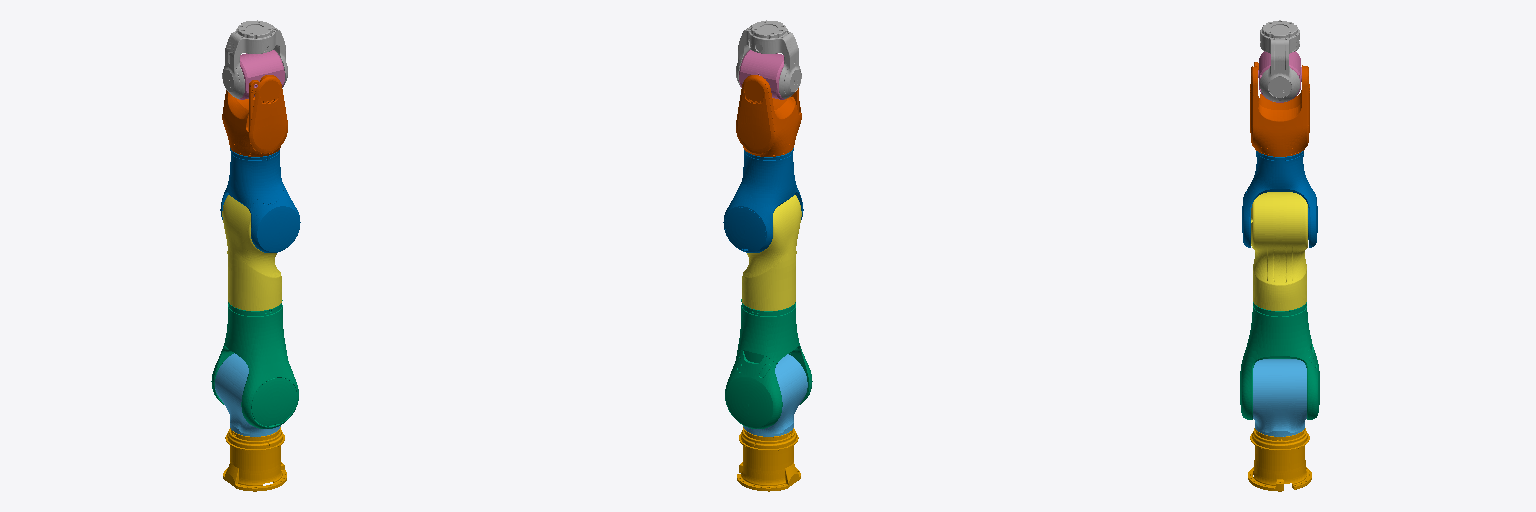
URDF robot description (ar5_08_right):
<?xml version="1.0"?>
<!-- Written by tools/assemble.py from ar5_08_right.xml: the same robot. Edit the MJCF, not this file. -->
<robot name="ar5_08_right">
  <link name="AR5_5_08R_W4C4A6_base">
    <inertial><origin xyz="-3.32756117e-05 -5.336332348e-05 0.05327725576" rpy="-0.005736384127 0.006757944656 0.2720821904"/><mass value="1.985108467"/><inertia ixx="0.002841170574" ixy="0" ixz="0" iyy="0.002806933388" iyz="0" izz="0.00230931321"/></inertial>
    <visual><origin xyz="0 0 0" rpy="0 0 0"/><geometry><mesh filename="meshes/visual/AR5_5_08R_W4C4A6_base_vis.obj"/></geometry></visual>
    <collision><origin xyz="0 0 0" rpy="0 0 0"/><geometry><mesh filename="meshes/collision/AR5_5_08R_W4C4A6_base_col.obj"/></geometry></collision>
  </link>
  <link name="AR5_5_08R_W4C4A6_link1">
    <inertial><origin xyz="0.000186 -0.001543 0.172784" rpy="1.544112367 -0.003346854636 0.000481908357"/><mass value="2.166"/><inertia ixx="0.003293741746" ixy="0" ixz="0" iyy="0.003148567652" iyz="0" izz="0.002587670602"/></inertial>
    <visual><origin xyz="0 0 0" rpy="0 0 0"/><geometry><mesh filename="meshes/visual/AR5_5_08R_W4C4A6_link1_vis.obj"/></geometry></visual>
    <collision><origin xyz="0 0 0" rpy="0 0 0"/><geometry><mesh filename="meshes/collision/AR5_5_08R_W4C4A6_link1_col.obj"/></geometry></collision>
  </link>
  <joint name="AR5_5_08R_W4C4A6_joint_1" type="revolute"><parent link="AR5_5_08R_W4C4A6_base"/><child link="AR5_5_08R_W4C4A6_link1"/><origin xyz="0 0 0" rpy="0 0 0"/><axis xyz="0 0 1"/><limit lower="-3.1067" upper="3.1067" effort="120" velocity="0.39"/><dynamics damping="0" friction="0"/></joint>
  <link name="AR5_5_08R_W4C4A6_link2">
    <inertial><origin xyz="1.7e-05 -0.001795 0.106691" rpy="0.1304021144 -0.0007589523819 0.002718522369"/><mass value="1.903"/><inertia ixx="0.007798278457" ixy="0" ixz="0" iyy="0.006813057405" iyz="0" izz="0.002990544138"/></inertial>
    <visual><origin xyz="0 0 0" rpy="0 0 0"/><geometry><mesh filename="meshes/visual/AR5_5_08R_W4C4A6_link2_vis.obj"/></geometry></visual>
    <collision><origin xyz="0 0 0" rpy="0 0 0"/><geometry><mesh filename="meshes/collision/AR5_5_08R_W4C4A6_link2_col.obj"/></geometry></collision>
  </link>
  <joint name="AR5_5_08R_W4C4A6_joint_2" type="revolute"><parent link="AR5_5_08R_W4C4A6_link1"/><child link="AR5_5_08R_W4C4A6_link2"/><origin xyz="0 0 0.1745" rpy="0 0 0"/><axis xyz="0 1 0"/><limit lower="-2.0944" upper="2.0944" effort="120" velocity="0.32"/><dynamics damping="0" friction="0"/></joint>
  <link name="AR5_5_08R_W4C4A6_link3">
    <inertial><origin xyz="0.009022 0.0009 -0.019936" rpy="0.01156499331 -0.08137184008 0.0350608603"/><mass value="1.845"/><inertia ixx="0.006380916591" ixy="0" ixz="0" iyy="0.005816054267" iyz="0" izz="0.002666189142"/></inertial>
    <visual><origin xyz="0 0 0" rpy="0 0 0"/><geometry><mesh filename="meshes/visual/AR5_5_08R_W4C4A6_link3_vis.obj"/></geometry></visual>
    <collision><origin xyz="0 0 0" rpy="0 0 0"/><geometry><mesh filename="meshes/collision/AR5_5_08R_W4C4A6_link3_col.obj"/></geometry></collision>
  </link>
  <joint name="AR5_5_08R_W4C4A6_joint_3" type="revolute"><parent link="AR5_5_08R_W4C4A6_link2"/><child link="AR5_5_08R_W4C4A6_link3"/><origin xyz="0 0 0.332" rpy="0 0 0"/><axis xyz="0 0 1"/><limit lower="-3.1067" upper="3.1067" effort="120" velocity="0.39"/><dynamics damping="0" friction="0"/></joint>
  <link name="AR5_5_08R_W4C4A6_link4">
    <inertial><origin xyz="-0.009272 0.002169 0.084042" rpy="-0.1907277085 0.08817328405 0.08601852898"/><mass value="1.037"/><inertia ixx="0.002958753971" ixy="0" ixz="0" iyy="0.002484537055" iyz="0" izz="0.001356698974"/></inertial>
    <visual><origin xyz="0 0 0" rpy="0 0 0"/><geometry><mesh filename="meshes/visual/AR5_5_08R_W4C4A6_link4_vis.obj"/></geometry></visual>
    <collision><origin xyz="0 0 0" rpy="0 0 0"/><geometry><mesh filename="meshes/collision/AR5_5_08R_W4C4A6_link4_col.obj"/></geometry></collision>
  </link>
  <joint name="AR5_5_08R_W4C4A6_joint_4" type="revolute"><parent link="AR5_5_08R_W4C4A6_link3"/><child link="AR5_5_08R_W4C4A6_link4"/><origin xyz="0.0105 0 0" rpy="0 0 0"/><axis xyz="0 1 0"/><limit lower="-1.0472" upper="2.5307" effort="120" velocity="0.39"/><dynamics damping="0" friction="0"/></joint>
  <link name="AR5_5_08R_W4C4A6_link5">
    <inertial><origin xyz="-0.000776 -0.000804 -0.086734" rpy="-0.139879665 0.0597717312 0.1088778322"/><mass value="1.279"/><inertia ixx="0.002416642662" ixy="0" ixz="0" iyy="0.002005444649" iyz="0" izz="0.001571232689"/></inertial>
    <visual><origin xyz="0 0 0" rpy="0 0 0"/><geometry><mesh filename="meshes/visual/AR5_5_08R_W4C4A6_link5_vis.obj"/></geometry></visual>
    <collision><origin xyz="0 0 0" rpy="0 0 0"/><geometry><mesh filename="meshes/collision/AR5_5_08R_W4C4A6_link5_col.obj"/></geometry></collision>
  </link>
  <joint name="AR5_5_08R_W4C4A6_joint_5" type="revolute"><parent link="AR5_5_08R_W4C4A6_link4"/><child link="AR5_5_08R_W4C4A6_link5"/><origin xyz="-0.0105 0 0.278" rpy="0 0 0"/><axis xyz="0 0 1"/><limit lower="-3.1067" upper="3.1067" effort="100" velocity="0.49"/><dynamics damping="0" friction="0"/></joint>
  <link name="AR5_5_08R_W4C4A6_link6">
    <inertial><origin xyz="-0.005059 -0.00025 -5.5e-05" rpy="-1.41665183 -1.527567163 -1.731612257"/><mass value="0.906"/><inertia ixx="0.0007605867866" ixy="0" ixz="0" iyy="0.000749415918" iyz="0" izz="0.0006148572954"/></inertial>
    <visual><origin xyz="0 0 0" rpy="0 0 0"/><geometry><mesh filename="meshes/visual/AR5_5_08R_W4C4A6_link6_vis.obj"/></geometry></visual>
    <collision><origin xyz="0 0 0" rpy="0 0 0"/><geometry><mesh filename="meshes/collision/AR5_5_08R_W4C4A6_link6_col.obj"/></geometry></collision>
  </link>
  <joint name="AR5_5_08R_W4C4A6_joint_6" type="revolute"><parent link="AR5_5_08R_W4C4A6_link5"/><child link="AR5_5_08R_W4C4A6_link6"/><origin xyz="0 0 0" rpy="0 0 0"/><axis xyz="0 1 0"/><limit lower="-1.047197551" upper="1.047197551" effort="100" velocity="0.49"/><dynamics damping="0" friction="0"/></joint>
  <link name="AR5_5_08R_W4C4A6_link7">
    <inertial><origin xyz="-0.00122 0.000673 0.053984" rpy="-0.6614017652 -0.01566890767 1.579713694"/><mass value="0.33"/><inertia ixx="0.0006870701651" ixy="0" ixz="0" iyy="0.000491834938" iyz="0" izz="0.000407904897"/></inertial>
    <visual><origin xyz="0 0 0" rpy="0 0 0"/><geometry><mesh filename="meshes/visual/AR5_5_08R_W4C4A6_link7_vis.obj"/></geometry></visual>
    <collision><origin xyz="0 0 0" rpy="0 0 0"/><geometry><mesh filename="meshes/collision/AR5_5_08R_W4C4A6_link7_col.obj"/></geometry></collision>
  </link>
  <joint name="AR5_5_08R_W4C4A6_joint_7" type="revolute"><parent link="AR5_5_08R_W4C4A6_link6"/><child link="AR5_5_08R_W4C4A6_link7"/><origin xyz="0 0 0" rpy="0 0 0"/><axis xyz="1 0 0"/><limit lower="-1.570796327" upper="1.570796327" effort="100" velocity="0.49"/><dynamics damping="0" friction="0"/></joint>
  <link name="AR5_5_08R_W4C4A6_tcp">
    <inertial><origin xyz="0 0 0" rpy="0 0 0"/><mass value="1e-06"/><inertia ixx="1e-09" ixy="0" ixz="0" iyy="1e-09" iyz="0" izz="1e-09"/></inertial>
  </link>
  <joint name="AR5_5_08R_W4C4A6_tcp_fixed" type="fixed"><parent link="AR5_5_08R_W4C4A6_link7"/><child link="AR5_5_08R_W4C4A6_tcp"/><origin xyz="0 0 0.09" rpy="0 0 0"/></joint>
</robot>

--- Render facts (derived) ---
The picture shows the robot from 3 angles, left to right: view 1: azimuth 30°, elevation 25°; view 2: azimuth 150°, elevation 25°; view 3: azimuth 270°, elevation 25°; orthographic projection.
Model ar5_08_right with 9 links and 8 joints (7 revolute, 1 fixed), rooted at AR5_5_08R_W4C4A6_base, posed every joint at zero.
Visible links, largest first — view 1: AR5_5_08R_W4C4A6_link2, AR5_5_08R_W4C4A6_link4, AR5_5_08R_W4C4A6_link3, AR5_5_08R_W4C4A6_link5, AR5_5_08R_W4C4A6_base, AR5_5_08R_W4C4A6_link7, AR5_5_08R_W4C4A6_link1, AR5_5_08R_W4C4A6_link6; view 2: AR5_5_08R_W4C4A6_link2, AR5_5_08R_W4C4A6_link4, AR5_5_08R_W4C4A6_link3, AR5_5_08R_W4C4A6_link5, AR5_5_08R_W4C4A6_base, AR5_5_08R_W4C4A6_link7, AR5_5_08R_W4C4A6_link1, AR5_5_08R_W4C4A6_link6; view 3: AR5_5_08R_W4C4A6_link3, AR5_5_08R_W4C4A6_link2, AR5_5_08R_W4C4A6_link1, AR5_5_08R_W4C4A6_link5, AR5_5_08R_W4C4A6_link4, AR5_5_08R_W4C4A6_base, AR5_5_08R_W4C4A6_link7, AR5_5_08R_W4C4A6_link6.
Link boxes in pixels (x1,y1,x2,y2): AR5_5_08R_W4C4A6_link2: (211,300,298,428); AR5_5_08R_W4C4A6_link4: (220,148,300,252); AR5_5_08R_W4C4A6_link3: (222,195,281,310); AR5_5_08R_W4C4A6_link5: (222,75,287,156); AR5_5_08R_W4C4A6_base: (223,427,286,491); AR5_5_08R_W4C4A6_link7: (222,20,287,98); AR5_5_08R_W4C4A6_link1: (215,353,280,436); AR5_5_08R_W4C4A6_link6: (239,50,284,99); AR5_5_08R_W4C4A6_link2: (725,299,812,428); AR5_5_08R_W4C4A6_link4: (723,148,803,252); AR5_5_08R_W4C4A6_link3: (742,195,801,310); AR5_5_08R_W4C4A6_link5: (736,75,801,156); AR5_5_08R_W4C4A6_base: (737,427,800,491); AR5_5_08R_W4C4A6_link7: (736,20,801,98); AR5_5_08R_W4C4A6_link1: (743,354,807,436); AR5_5_08R_W4C4A6_link6: (739,50,784,99); AR5_5_08R_W4C4A6_link3: (1251,192,1307,310); AR5_5_08R_W4C4A6_link2: (1240,302,1319,419); AR5_5_08R_W4C4A6_link1: (1253,359,1306,436); AR5_5_08R_W4C4A6_link5: (1250,62,1309,156); AR5_5_08R_W4C4A6_link4: (1242,151,1317,247); AR5_5_08R_W4C4A6_base: (1248,428,1311,491); AR5_5_08R_W4C4A6_link7: (1260,20,1299,101); AR5_5_08R_W4C4A6_link6: (1258,51,1301,102).
Bounding box of the posed robot: 0.1184 × 0.1417 × 0.8745 m (x, y, z).
Meshes: 8 distinct files referenced, 8 mesh visuals loaded (8 OBJ).
